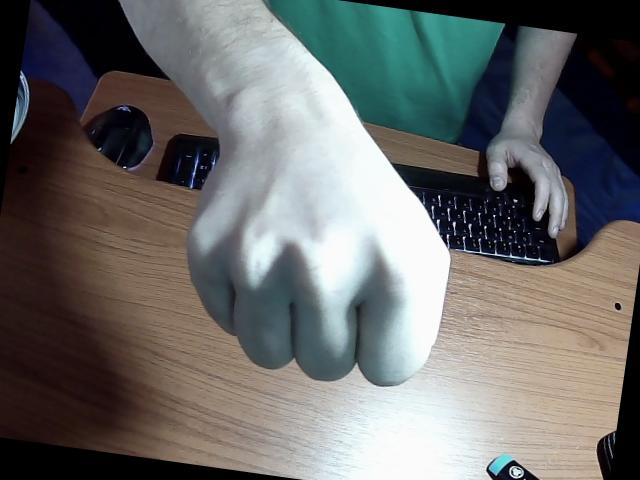rock: (189, 89, 450, 386)
